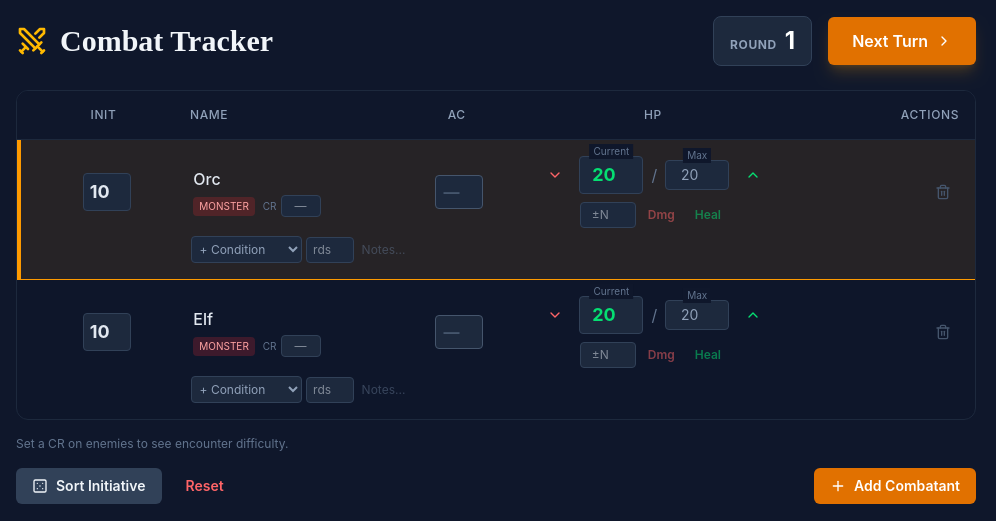
Test: conditions › records a duration and ticks it down when the round advances
The width and height of the screenshot is (996, 521).
Type "2" into the number field named "Condition duration in rounds for Orc" at (330, 250), box x1=306 y1=236 x2=354 y2=262
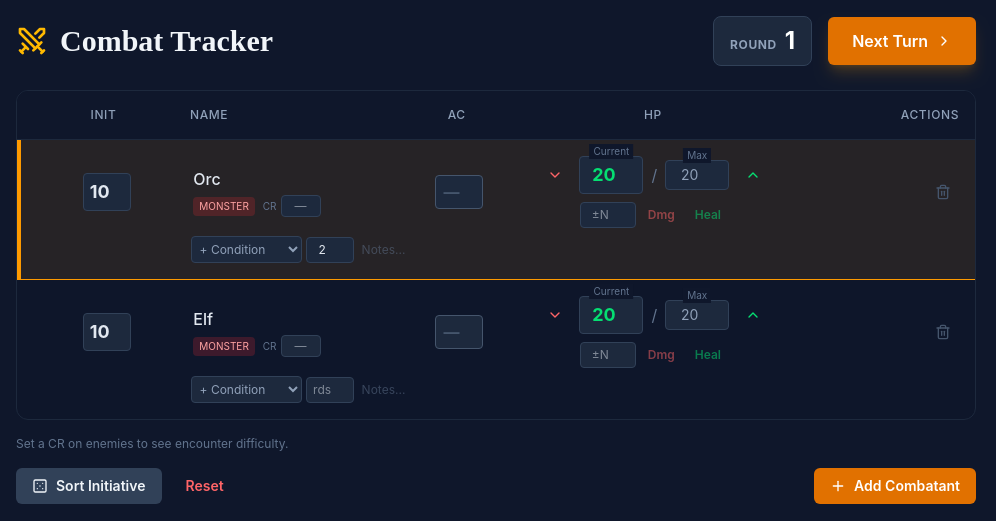
Select "Frightened" in the dropdown named "Add condition to Orc" at (246, 250), box x1=191 y1=236 x2=302 y2=263
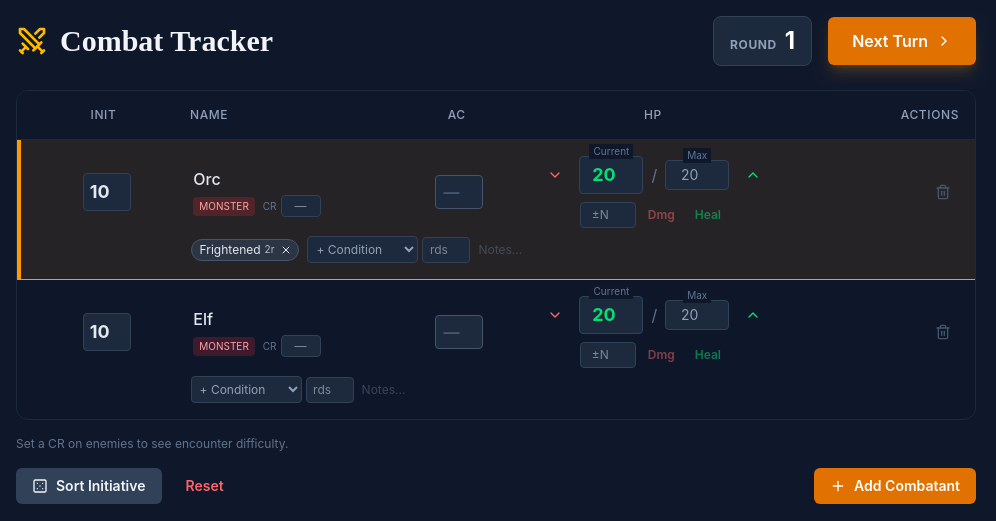
Click the button "Next Turn" at (902, 41), box x1=828 y1=17 x2=976 y2=65
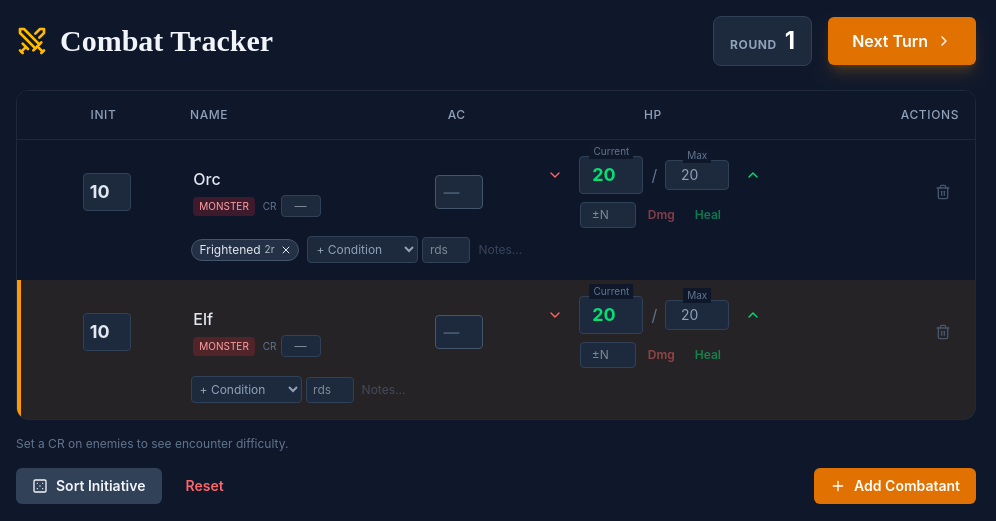
Click the button "Next Turn" at (902, 41), box x1=828 y1=17 x2=976 y2=65
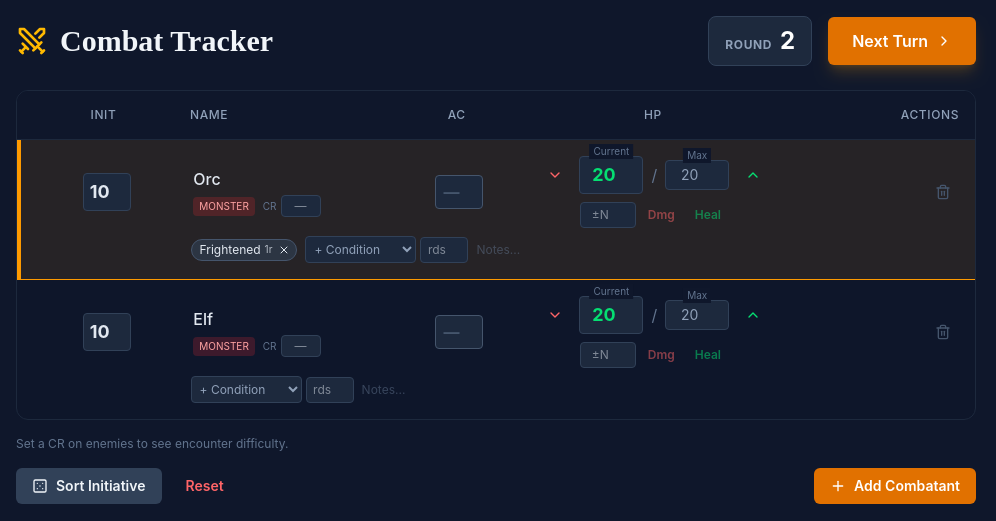
Click the button "Next Turn" at (902, 41), box x1=828 y1=17 x2=976 y2=65
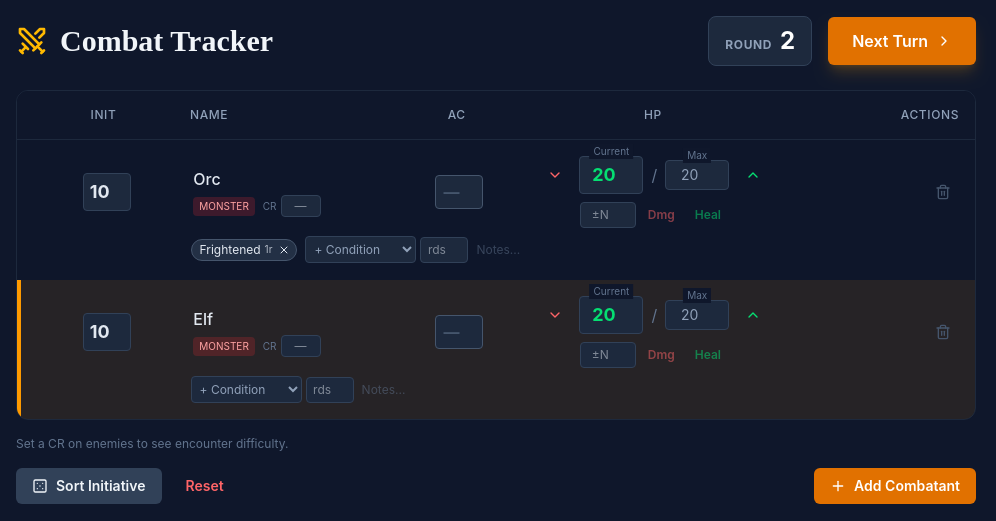
Click the button "Next Turn" at (902, 41), box x1=828 y1=17 x2=976 y2=65
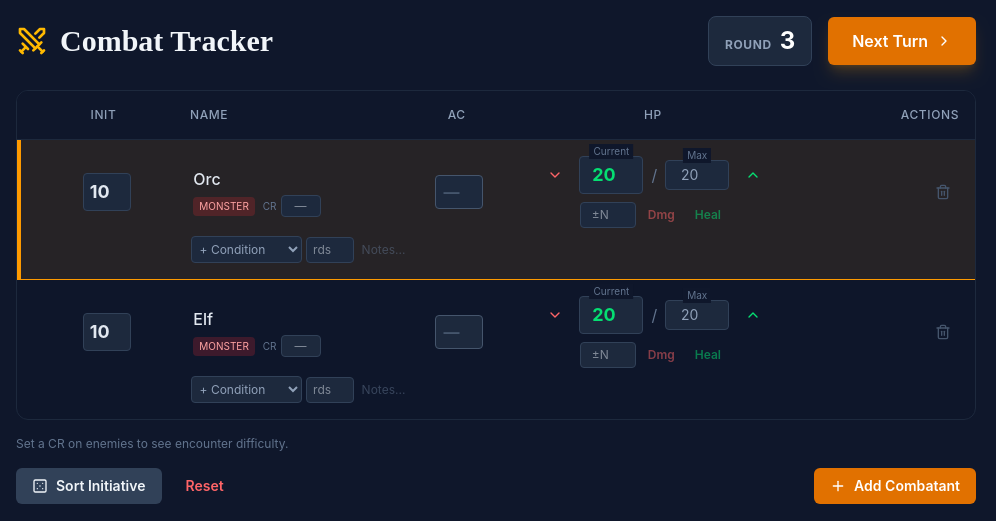
Result: the text "Frightened" is gone
